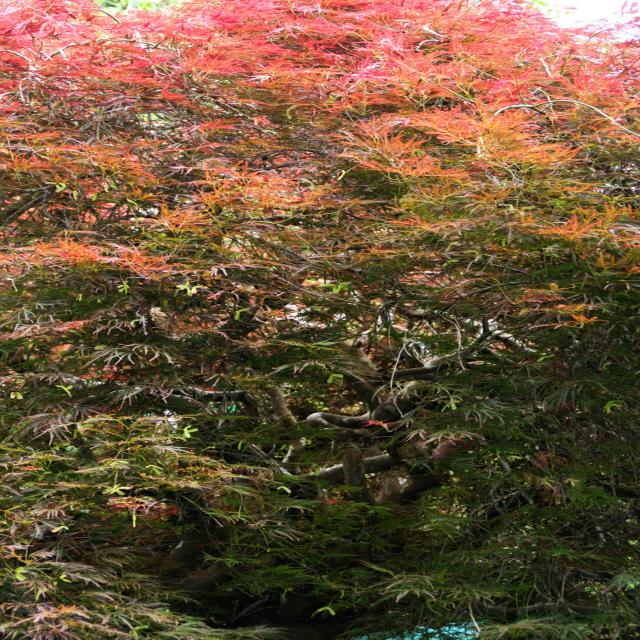Dissectum syn Atropurpurea: (4, 3, 640, 640)
